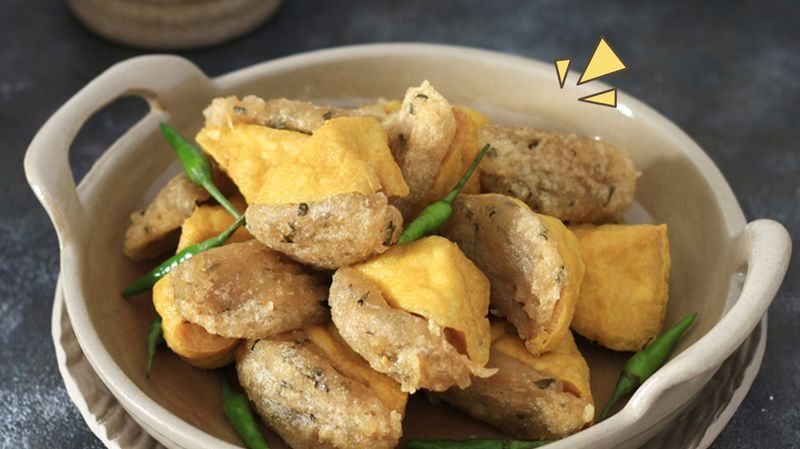Tahu: (226, 113, 407, 301), (317, 257, 494, 393)
